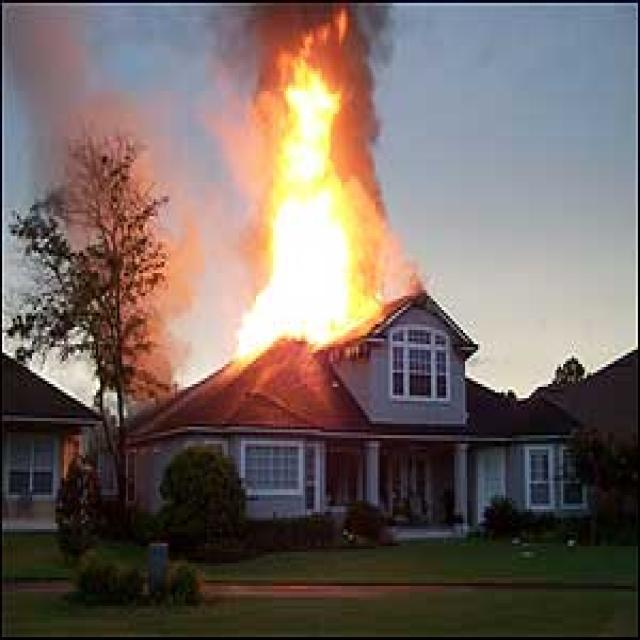Fire: (236, 49, 376, 372)
Smoke: (6, 4, 183, 418), (225, 6, 402, 48)
